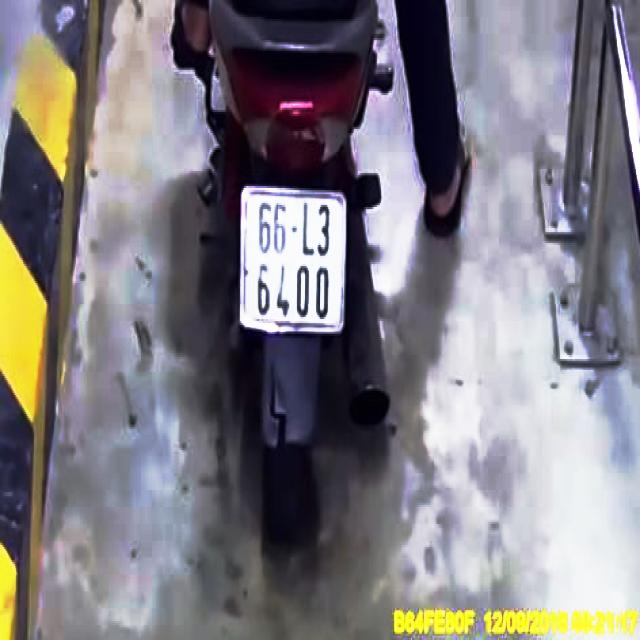license_plate: (238, 187, 346, 334)
